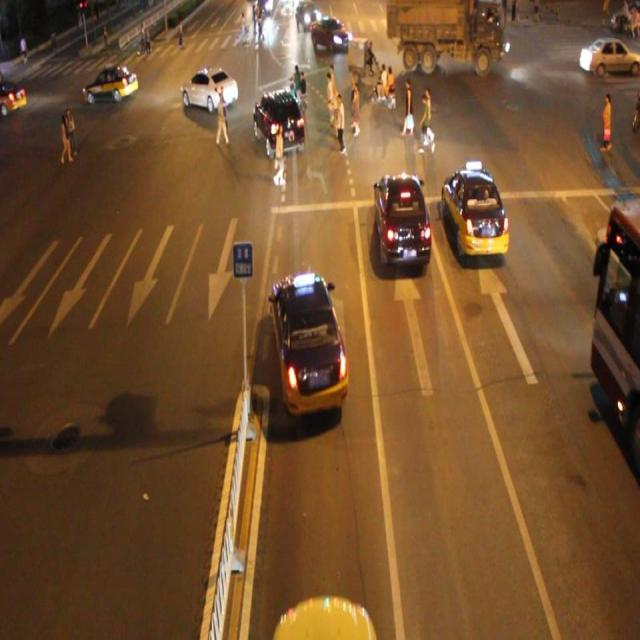bus: (384, 1, 503, 72)
car: (270, 270, 347, 410), (441, 170, 508, 260), (373, 171, 431, 268), (270, 589, 376, 640), (254, 89, 304, 154), (181, 66, 237, 113), (83, 67, 138, 104), (309, 14, 351, 52), (291, 1, 321, 32)
van: (589, 205, 640, 473)
